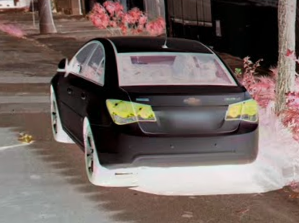car: (50, 37, 259, 189)
